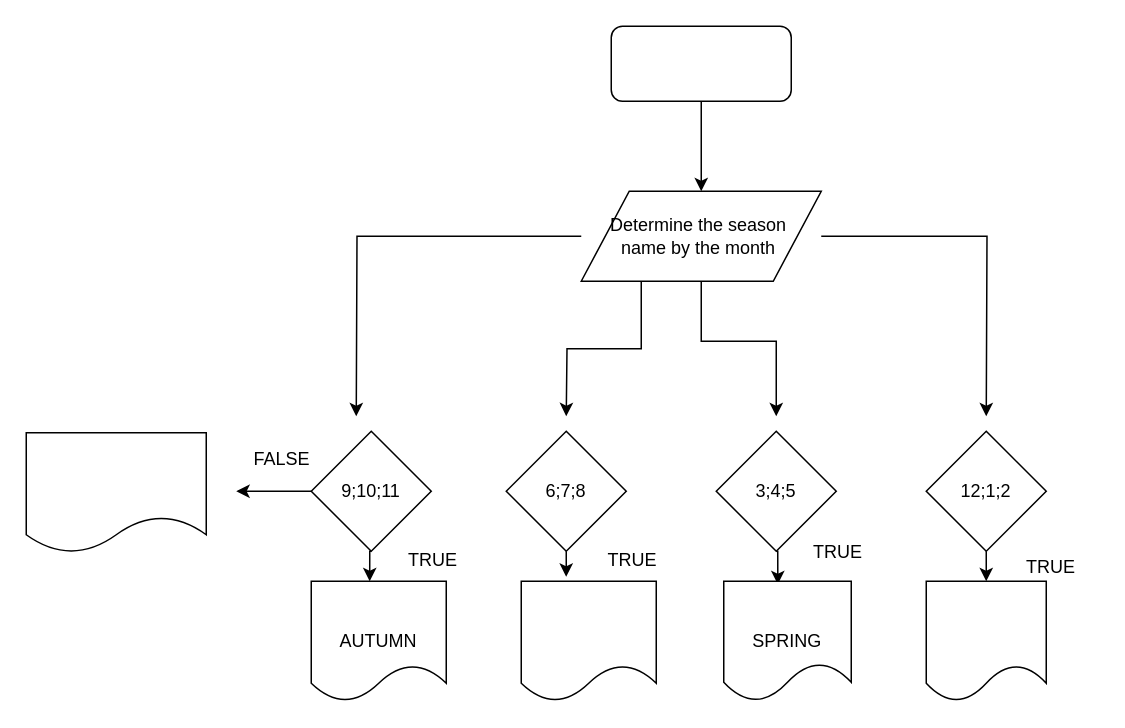
Image size: 1125x728. Some labels were removed from this diagram. The centre of each missing label's shape, as x and y in pixels:
"ENTER TRUE INFORMATION" goes at (115,492).
"START" goes at (700,63).
"SUMMER" goes at (588,640).
"WINTER" goes at (985,640).
